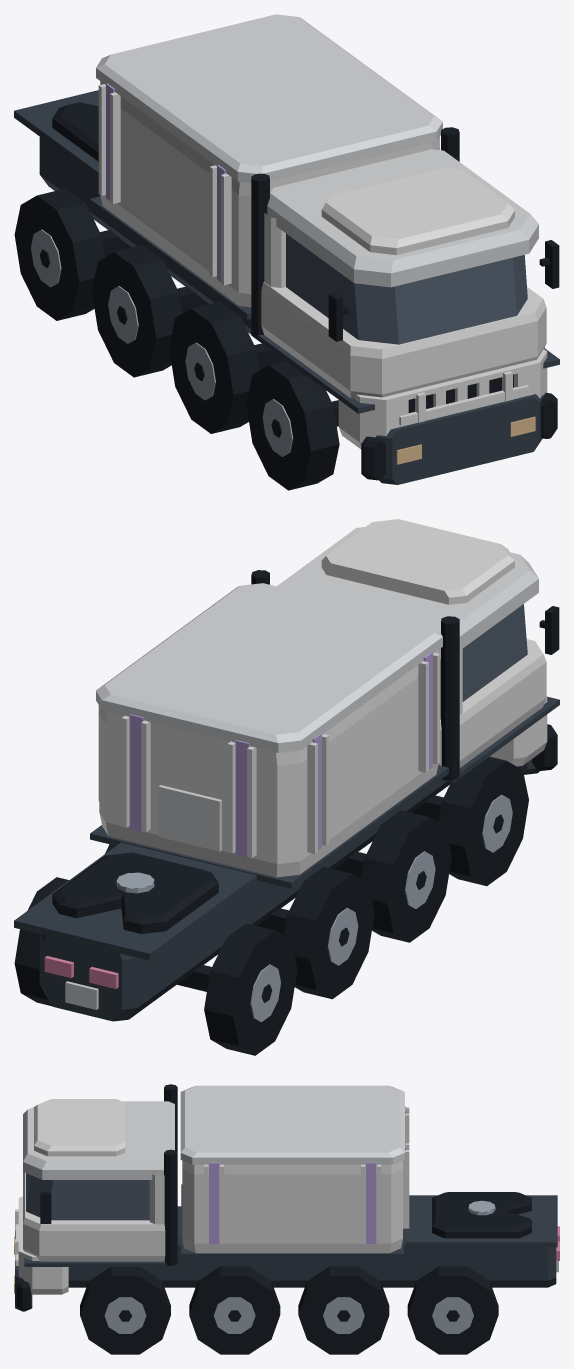
The model's file is eight-wheel-industrial-hauler-4dc3d7.glb.
3 renders of one model, top to bottom at view 1: azimuth 30°, elevation 25°; view 2: azimuth 150°, elevation 25°; view 3: azimuth 270°, elevation 25°, orthographic. The views are drawn at different scales.
Parts seen in each view (by area): view 1: eight-wheel-industrial-hauler, wheel-1r, wheel-4r, wheel-3r, wheel-2r; view 2: eight-wheel-industrial-hauler, wheel-4r, wheel-3r, wheel-2r, wheel-1r, wheel-4l; view 3: eight-wheel-industrial-hauler, wheel-4l, wheel-3l, wheel-2l, wheel-1l.
Part boxes in pixels (left/top/right/bottom): eight-wheel-industrial-hauler: left=14, top=14, right=559, bottom=484; wheel-1r: left=246, top=361, right=339, bottom=490; wheel-4r: left=14, top=188, right=104, bottom=320; wheel-3r: left=92, top=245, right=182, bottom=377; wheel-2r: left=169, top=301, right=259, bottom=433; eight-wheel-industrial-hauler: left=14, top=519, right=559, bottom=1021; wheel-4r: left=204, top=923, right=297, bottom=1055; wheel-3r: left=284, top=867, right=374, bottom=999; wheel-2r: left=361, top=810, right=451, bottom=942; wheel-1r: left=438, top=756, right=528, bottom=886; wheel-4l: left=14, top=877, right=68, bottom=1006; eight-wheel-industrial-hauler: left=14, top=1084, right=559, bottom=1311; wheel-4l: left=407, top=1266, right=498, bottom=1354; wheel-3l: left=298, top=1266, right=389, bottom=1354; wheel-2l: left=189, top=1266, right=280, bottom=1354; wheel-1l: left=80, top=1267, right=170, bottom=1354.
Bounding box in the file's own units: 4 × 4.8 × 12.
